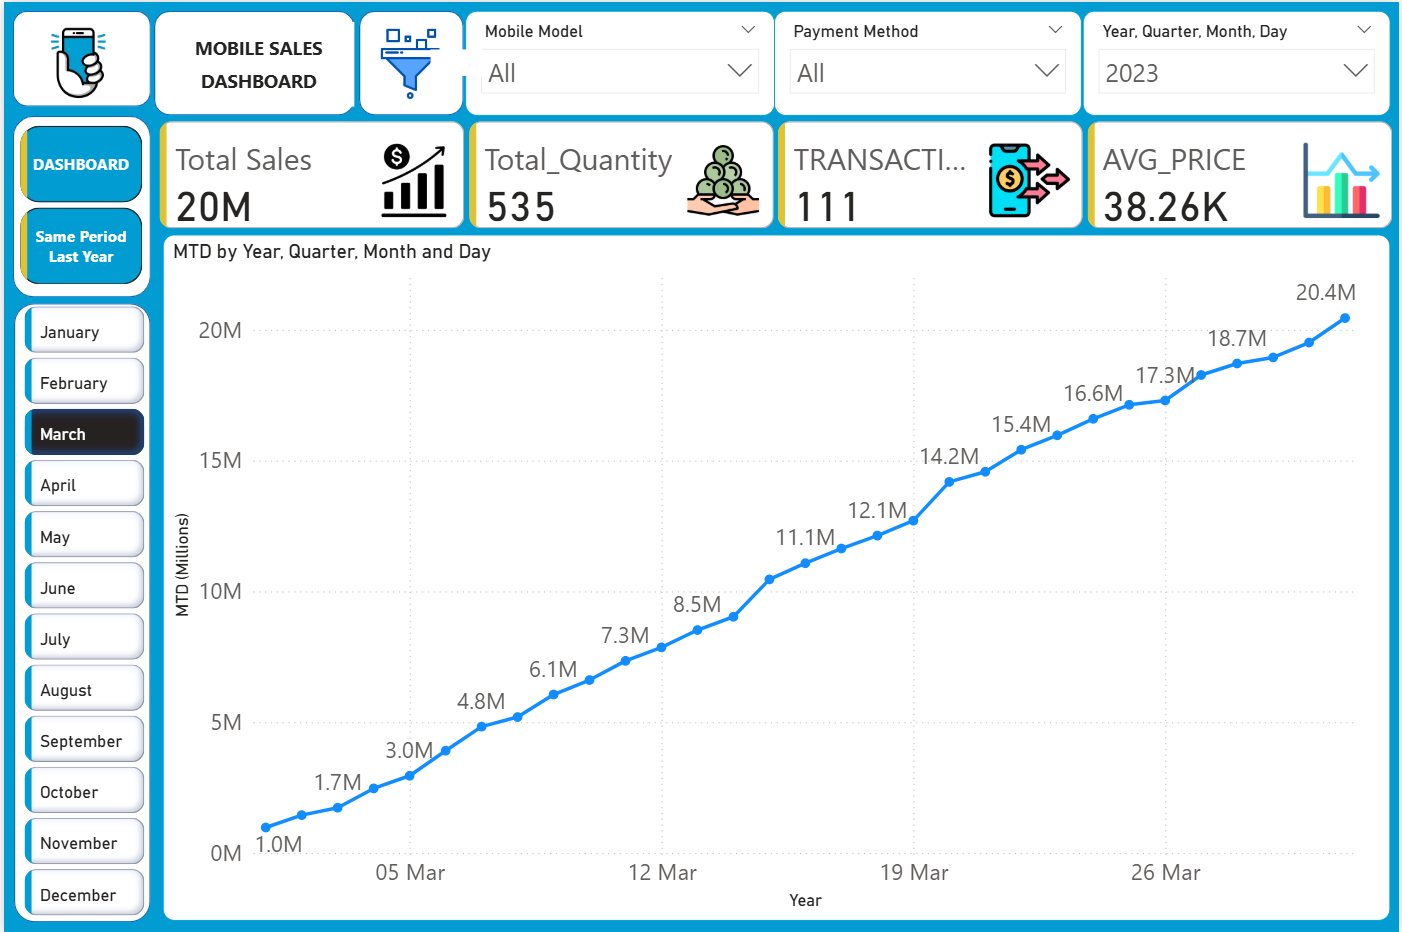

Layout of this report page (visuals, bound fields, positions):
{"tool":"powerbi","page":{"name":"MTD Report","canvas":[1200,800],"ordinal":1},"visuals":[{"type":"shape","box":[7.5,7.5,118.8,82.5],"z":0},{"type":"image","box":[13.8,7.5,100,90],"z":1000},{"type":"shape","box":[7.5,97.5,118.8,156.2],"z":2000},{"type":"cardVisual","fields":{"Data":["_sales_data.TOTAL_SALES","_sales_data.Total_Quantity","_sales_data.TRANSACTIONS","_sales_data.AVG_PRICE"]},"box":[128.8,97.5,1071.2,102.5],"z":3000},{"type":"slicer","fields":{"Values":["_sales_data.Mobile Model"]},"box":[396.2,7.5,266.2,90],"z":4000},{"type":"slicer","fields":{"Values":["_sales_data.Payment Method"]},"box":[662.5,7.5,265,90],"z":5000},{"type":"slicer","fields":{"Values":["Custom_Calender.Date.Variation.Date Hierarchy.Year","Custom_Calender.Date.Variation.Date Hierarchy.Quarter","Custom_Calender.Date.Variation.Date Hierarchy.Month","Custom_Calender.Date.Variation.Date Hierarchy.Day"]},"box":[927.5,7.5,265,90],"z":6000},{"type":"shape","box":[305,7.5,90,90],"z":7000},{"type":"image","box":[308.8,17.5,81.2,72.5],"z":8000},{"type":"shape","box":[366.2,28.8,56.2,46.2],"z":9000},{"type":"shape","box":[128.8,7.5,172.5,90],"z":10000},{"type":"textbox","box":[136.2,17.5,165,72.5],"z":11000},{"type":"lineChart","fields":{"Category":["Custom_Calender.Date.Variation.Date Hierarchy.Year","Custom_Calender.Date.Variation.Date Hierarchy.Quarter","Custom_Calender.Date.Variation.Date Hierarchy.Month","Custom_Calender.Date.Variation.Date Hierarchy.Day"],"Y":["_sales_data.MTD"]},"box":[136.2,200,1056.2,590],"z":12000},{"type":"shape","box":[8.8,258.8,117.5,532.5],"z":13000},{"type":"advancedSlicerVisual","fields":{"Values":["Custom_Calender.Date.Variation.Date Hierarchy.Month"]},"box":[12.5,257.5,113.8,542.5],"z":13001},{"type":"pageNavigator","box":[13.8,106.2,105,137.5],"z":13002}]}

Visuals, with their boxes in screenshot pixels (x1, y1, x2, y2), scaled from the page's 1200x800 canvas onto the 1402x932 screenshot:
shape: box(9, 9, 148, 105)
image: box(16, 9, 133, 114)
shape: box(9, 114, 148, 296)
cardVisual - _sales_data.TOTAL_SALES x _sales_data.Total_Quantity: box(150, 114, 1401, 233)
slicer - _sales_data.Mobile Model: box(463, 9, 774, 114)
slicer - _sales_data.Payment Method: box(774, 9, 1084, 114)
slicer - Custom_Calender.Date.Variation.Date Hierarchy.Year x Custom_Calender.Date.Variation.Date Hierarchy.Quarter: box(1084, 9, 1393, 114)
shape: box(356, 9, 461, 114)
image: box(361, 20, 456, 105)
shape: box(428, 34, 494, 87)
shape: box(150, 9, 352, 114)
textbox: box(159, 20, 352, 105)
lineChart - Custom_Calender.Date.Variation.Date Hierarchy.Year x Custom_Calender.Date.Variation.Date Hierarchy.Quarter: box(159, 233, 1393, 920)
shape: box(10, 302, 148, 922)
advancedSlicerVisual - Custom_Calender.Date.Variation.Date Hierarchy.Month: box(15, 300, 148, 931)
pageNavigator: box(16, 124, 139, 284)
